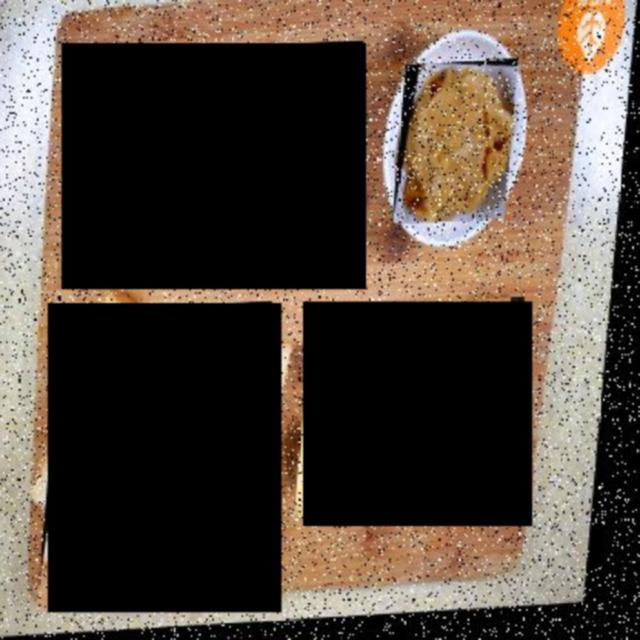Bacon: (61, 43, 367, 290)
Bread: (49, 303, 282, 612)
Cheese: (303, 302, 532, 526)
